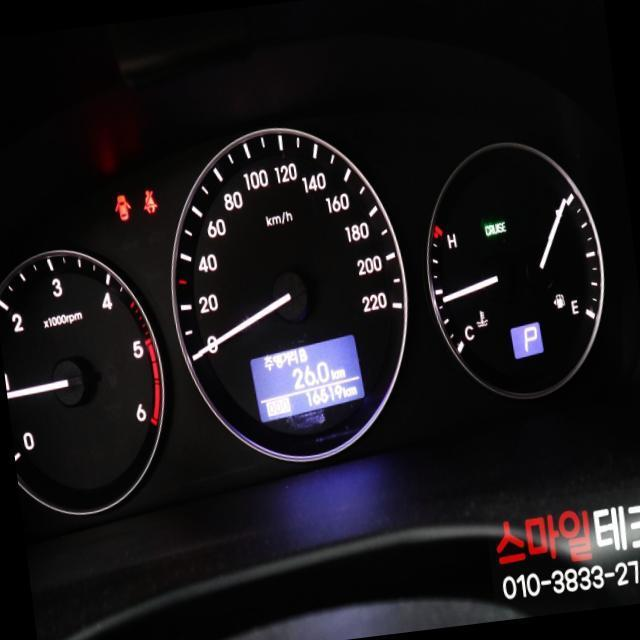Doors: (112, 193, 131, 221)
